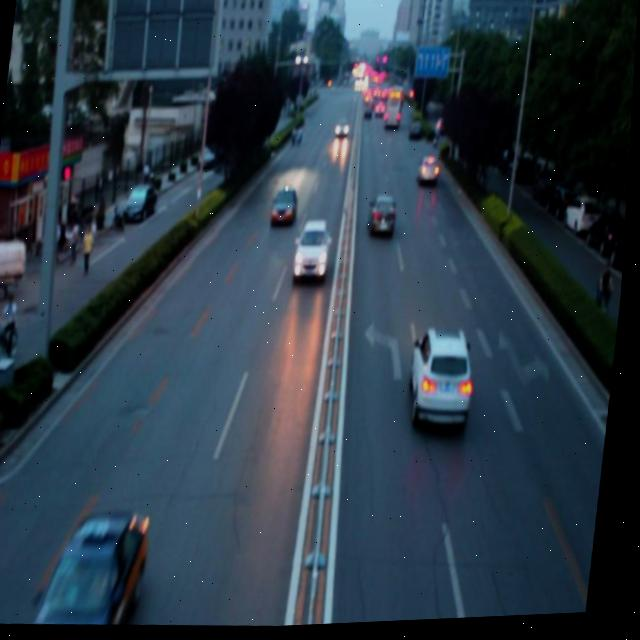car: (38, 509, 157, 630), (406, 323, 483, 437), (294, 221, 335, 286), (367, 196, 401, 243), (271, 188, 300, 231), (417, 157, 441, 188)
